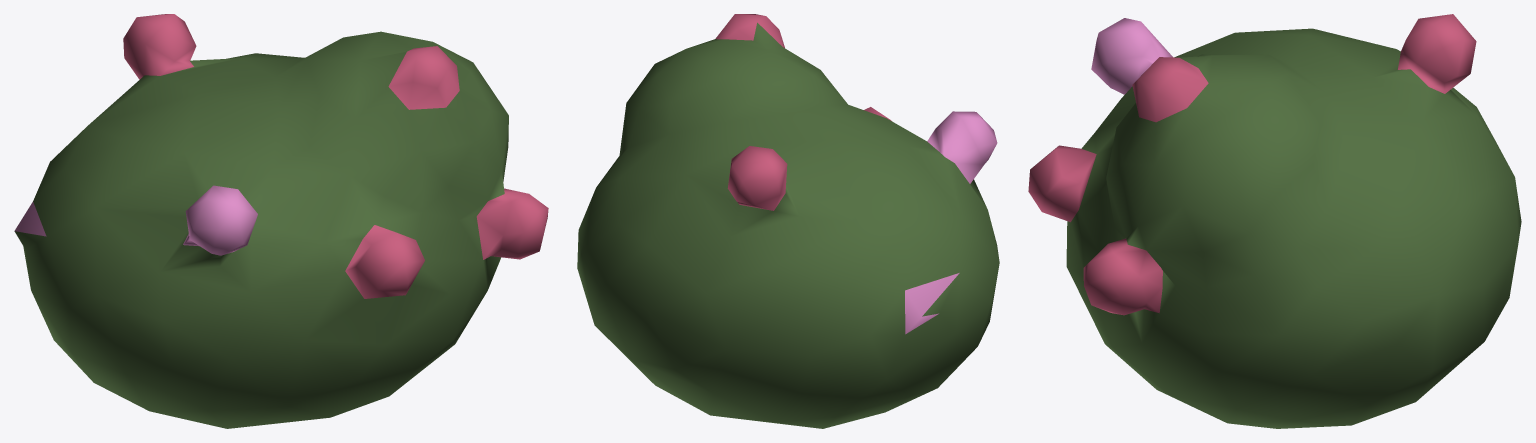
Rendered from rosebush.glb.
3 renders of one model, left to right at view 1: azimuth 30°, elevation 25°; view 2: azimuth 150°, elevation 25°; view 3: azimuth 270°, elevation 25°, orthographic. The views are drawn at different scales.
Visible parts, largest first — view 1: rosebush; view 2: rosebush; view 3: rosebush.
Boxes of the visible parts, <box> form: rosebush: <box>14,14,548,428</box>; rosebush: <box>577,14,999,428</box>; rosebush: <box>1028,14,1521,428</box>.
Bounding box in the file's own units: 1.24 × 1.03 × 1.19.
